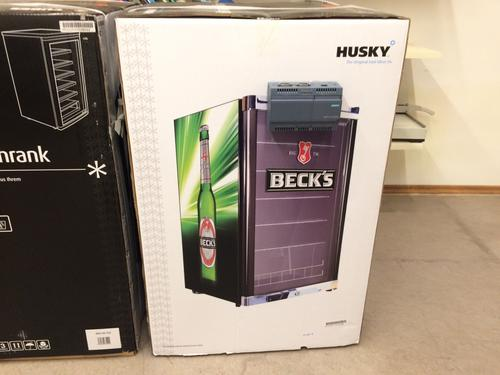iot2000: (265, 80, 343, 132)
